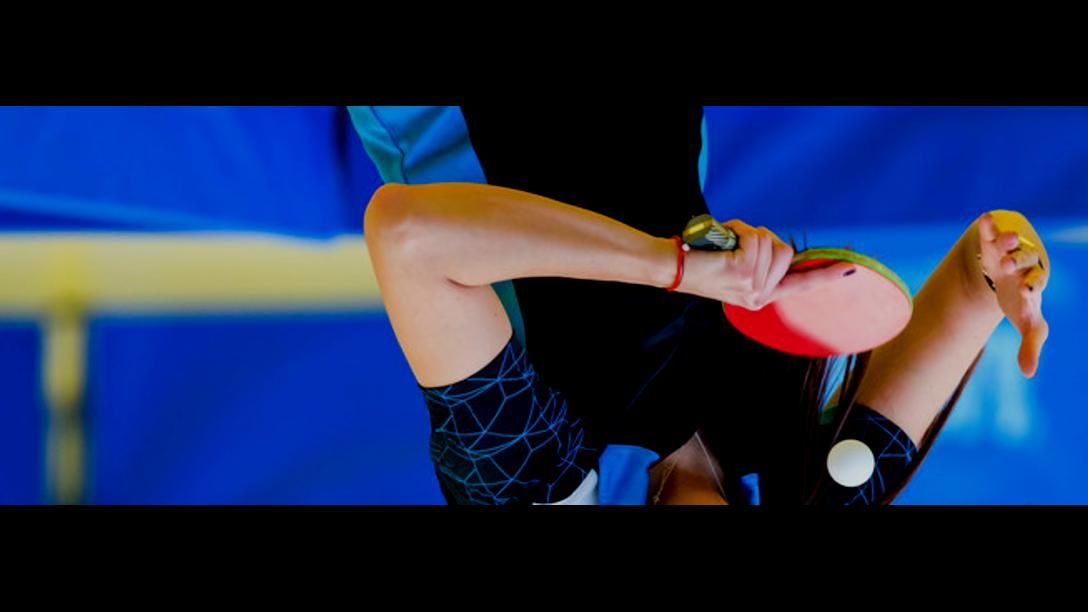Table-Tennis-Ball: (830, 442, 874, 488)
